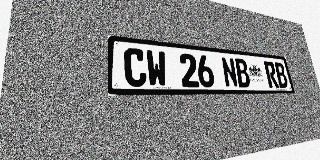2: (179, 53, 199, 87)
6: (196, 54, 215, 87)
B: (234, 58, 251, 87), (274, 62, 289, 88)
C: (124, 47, 147, 87)
N: (220, 57, 239, 87)
R: (263, 61, 279, 88)
W: (145, 50, 168, 87)
